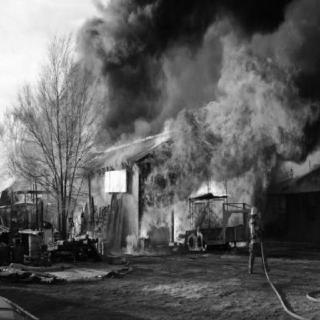Fire: (146, 37, 312, 257), (11, 148, 73, 228)
